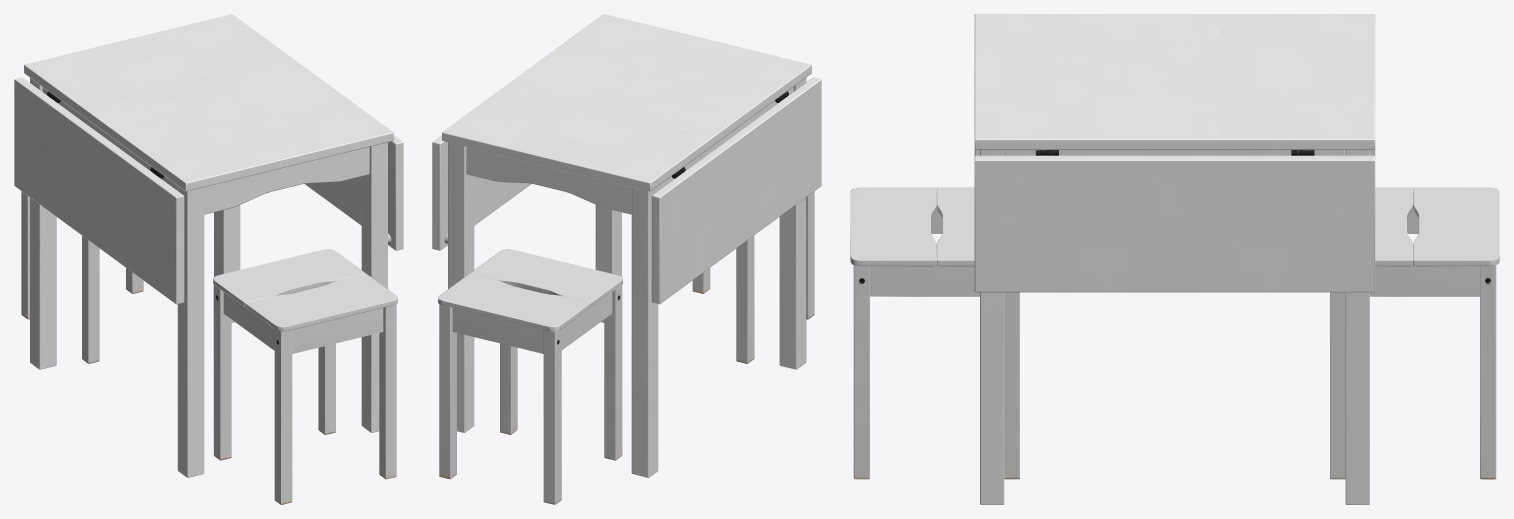
3 renders of one model, left to right at view 1: azimuth 30°, elevation 25°; view 2: azimuth 150°, elevation 25°; view 3: azimuth 270°, elevation 25°, orthographic. The views are drawn at different scales.
Size of the model in its own units: 0.6006 by 0.7499 by 1.2.
Materials: 1 (1 with a texture image).
